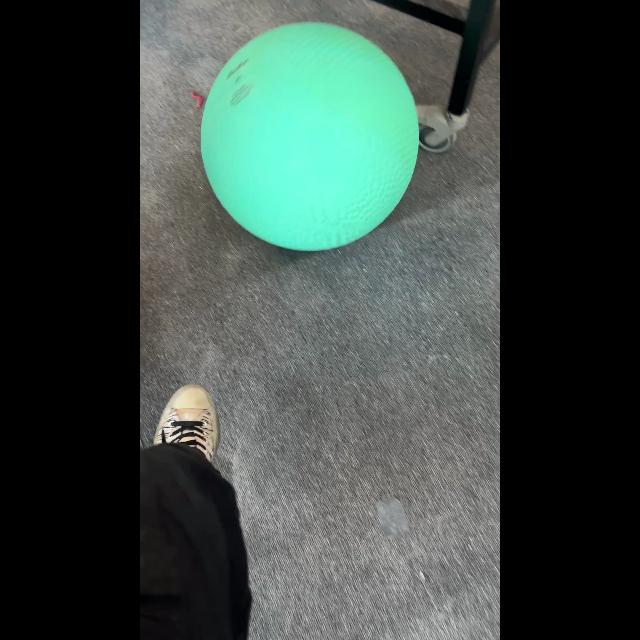ALGAE: (200, 20, 420, 252)
